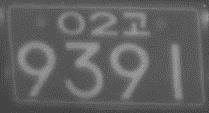0: (57, 10, 86, 36)
1: (159, 43, 193, 99)
2: (89, 11, 118, 37)
3: (64, 41, 104, 100)
9: (109, 41, 149, 100), (16, 40, 56, 98)
고: (122, 10, 149, 37)
